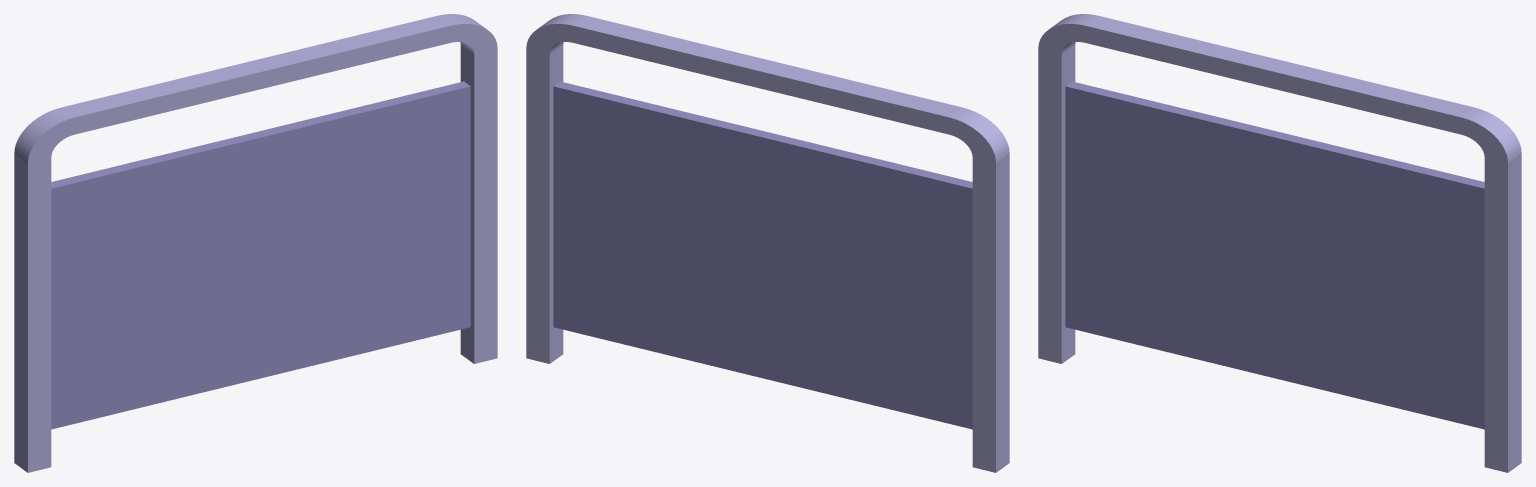
File: barriere.fbx
3 renders of one model, left to right at view 1: azimuth 30°, elevation 25°; view 2: azimuth 150°, elevation 25°; view 3: azimuth 330°, elevation 25°, orthographic.
Visible parts, largest first — view 1: mergedBlocks; view 2: mergedBlocks; view 3: mergedBlocks.
Boxes of the visible parts, left/top/right/bottom form: mergedBlocks: left=14, top=14, right=497, bottom=472; mergedBlocks: left=526, top=14, right=1009, bottom=472; mergedBlocks: left=1038, top=14, right=1521, bottom=472.
Size of the model in its own units: 10 by 7 by 0.5.
